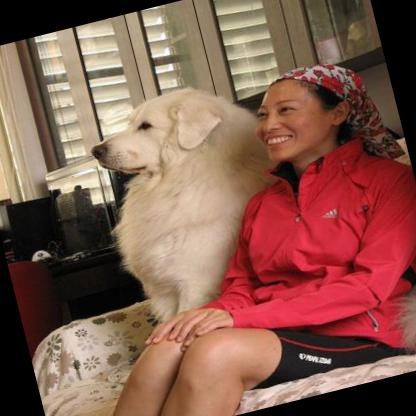Great_Pyrenees: (79, 36, 416, 416)
